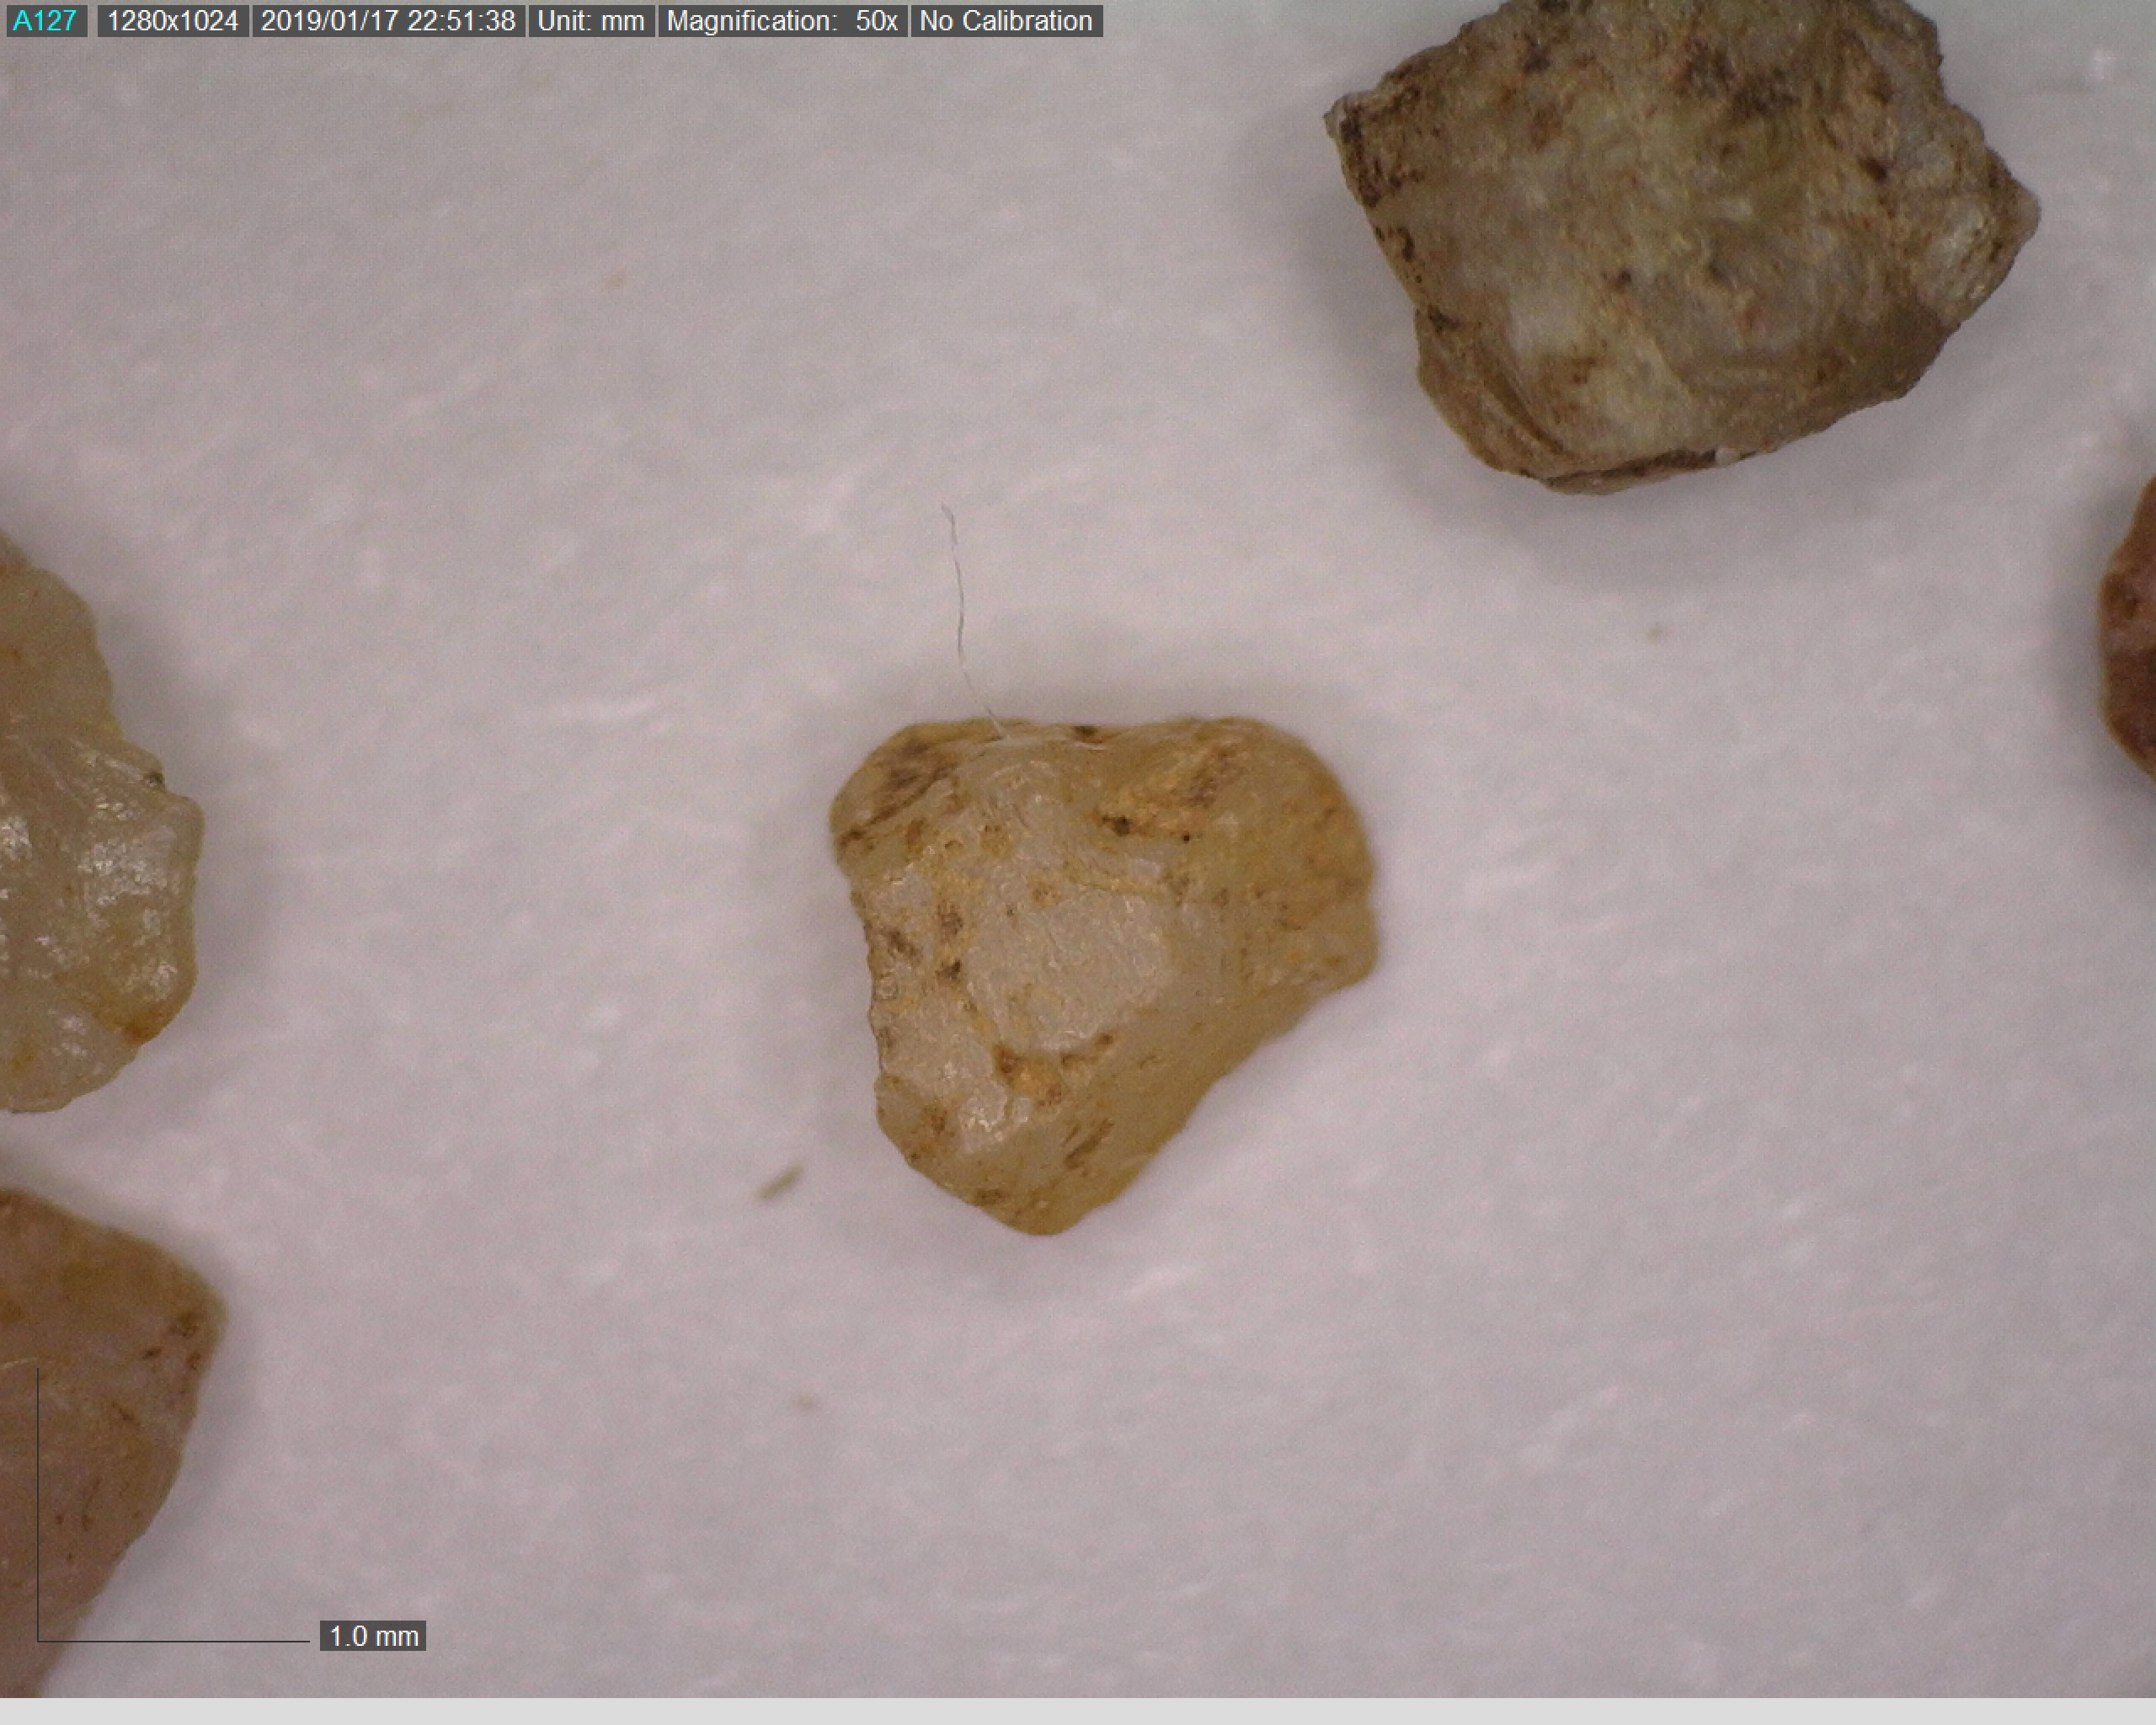Quartz: (818, 708, 1397, 1250)
